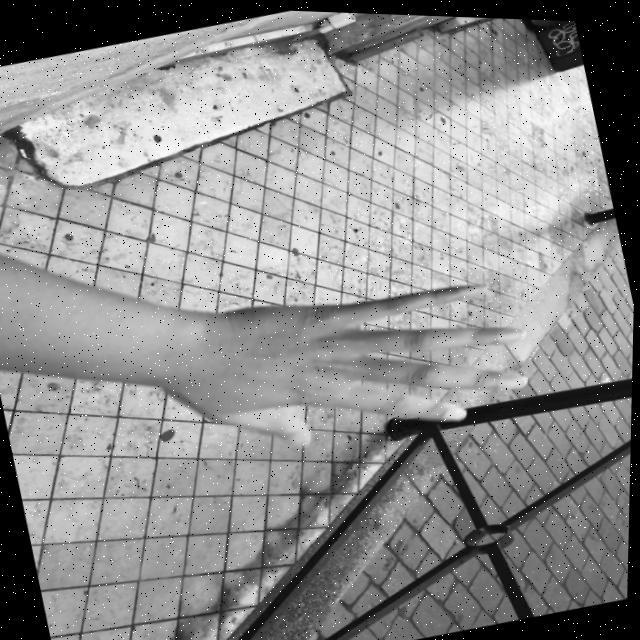no-gloves: (154, 240, 546, 483)
